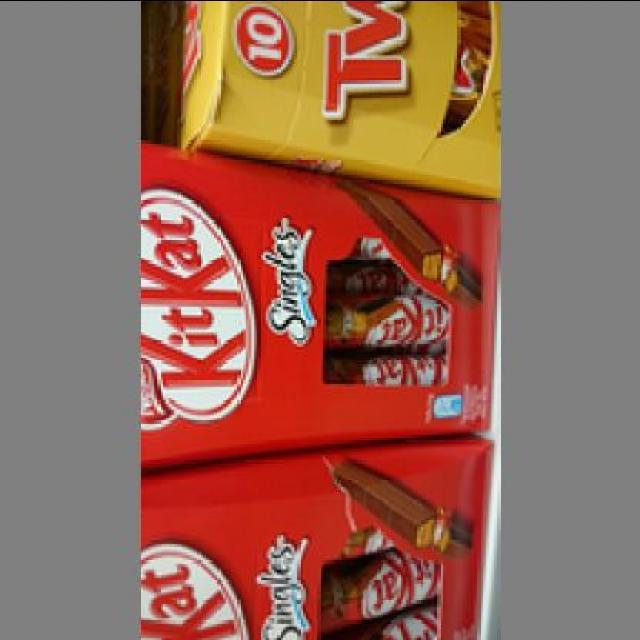Chocolate bar: (136, 157, 492, 474), (137, 448, 483, 638), (174, 4, 492, 188)
